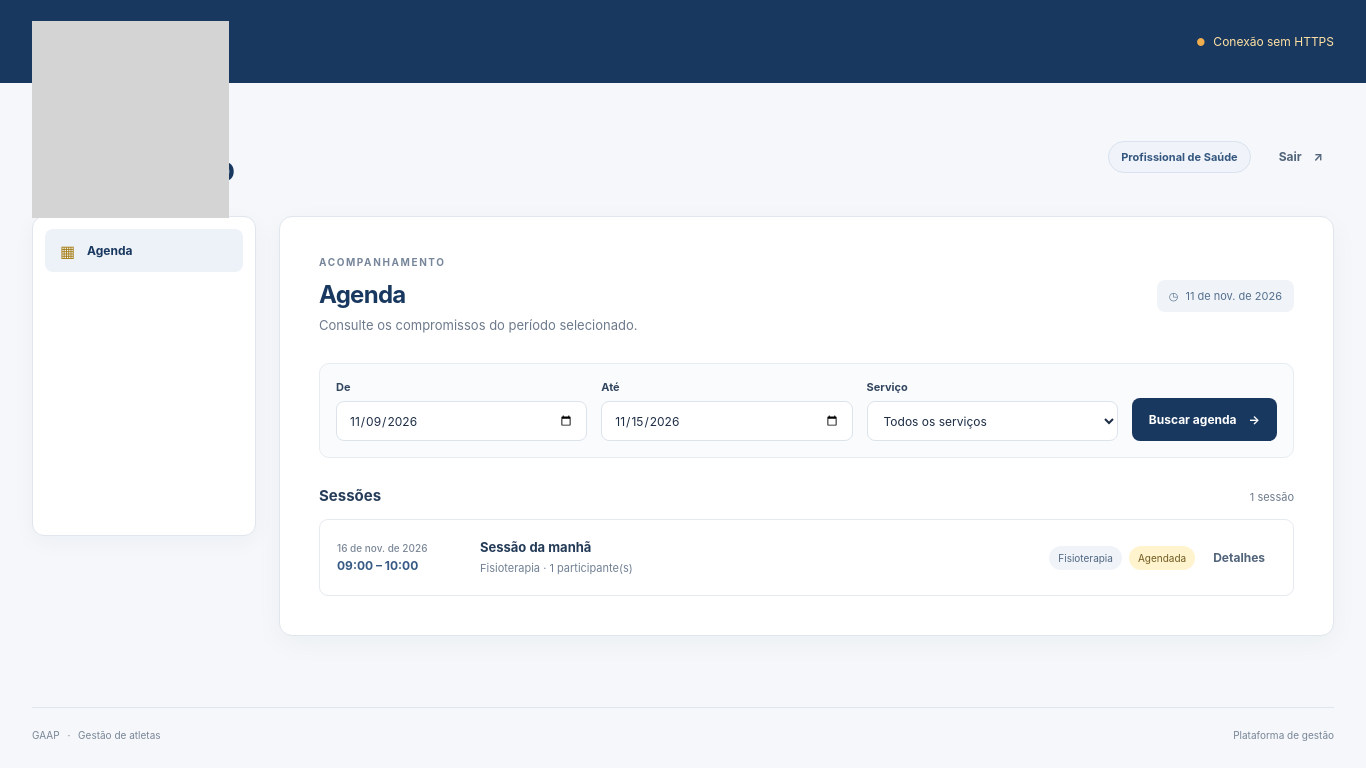
Scenario: Profissional de Saúde › registra presença e situação (RF-10), sem relatório de treino, e vê o 403 da API
The image size is (1366, 768).
Click the button "Detalhes" at (1239, 558), box top-left (1202, 536), bottom-right (1276, 579)
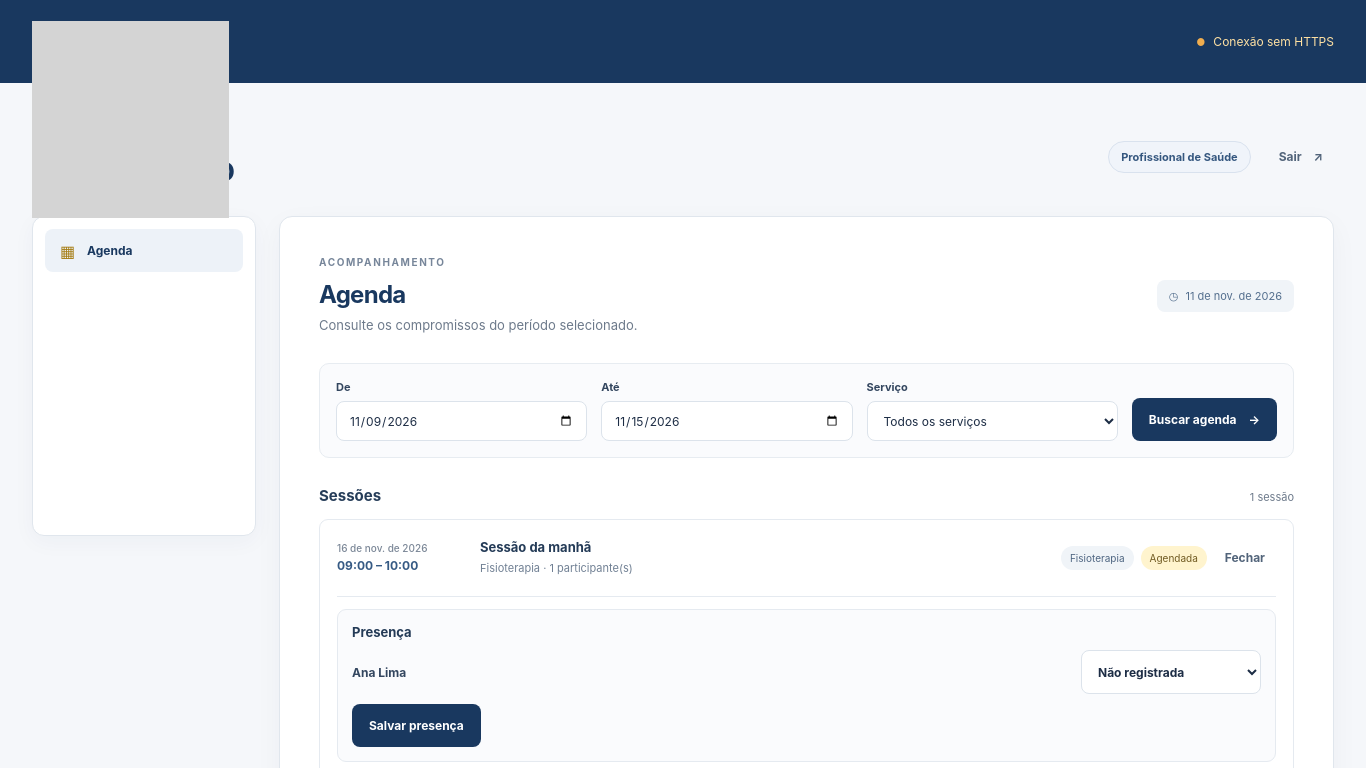
Select "Falta" in the dropdown labelled "Ana Lima" at (1171, 672), box top-left (1081, 650), bottom-right (1261, 694)
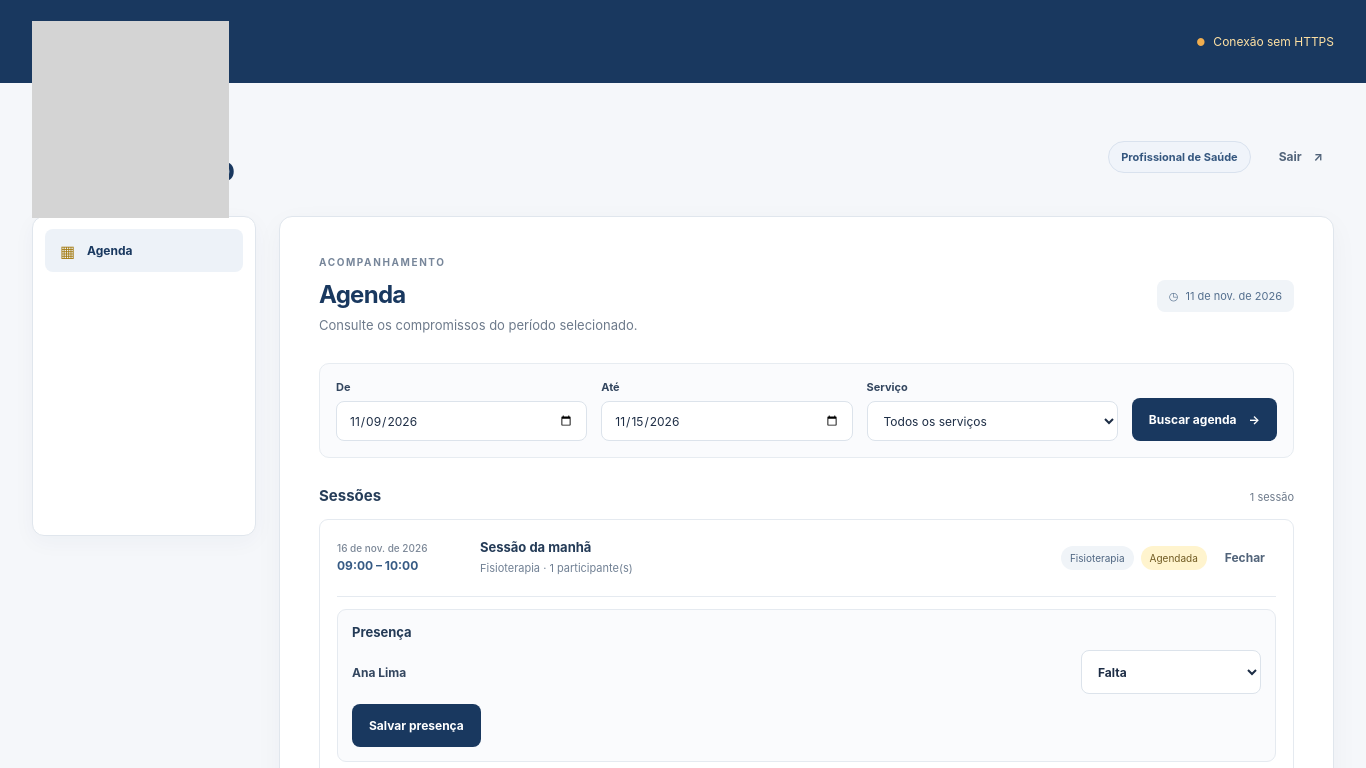
Submit the form "Salvar presença", box top-left (337, 609), bottom-right (1276, 762)
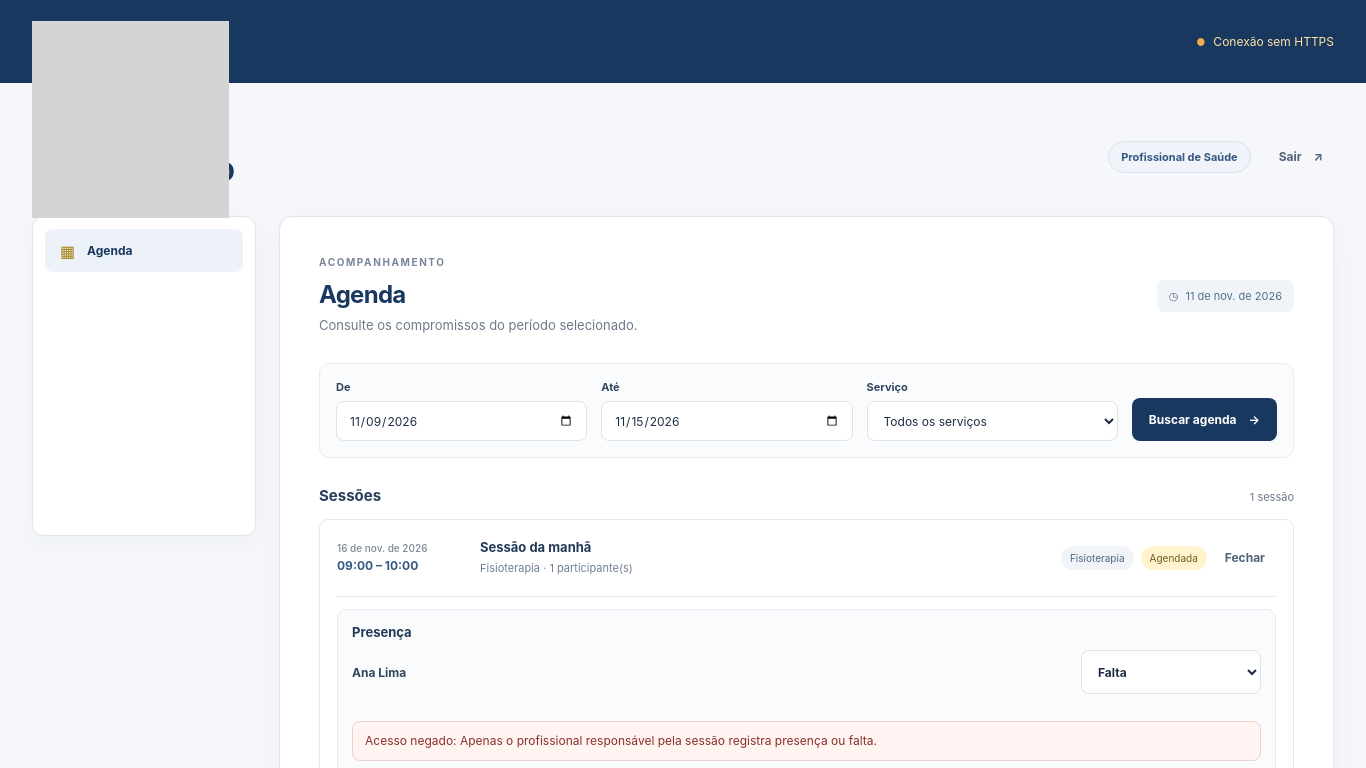
Result: the message shows "Acesso negado: Apenas o profissional responsável" at top-left (365, 733), bottom-right (877, 748)
